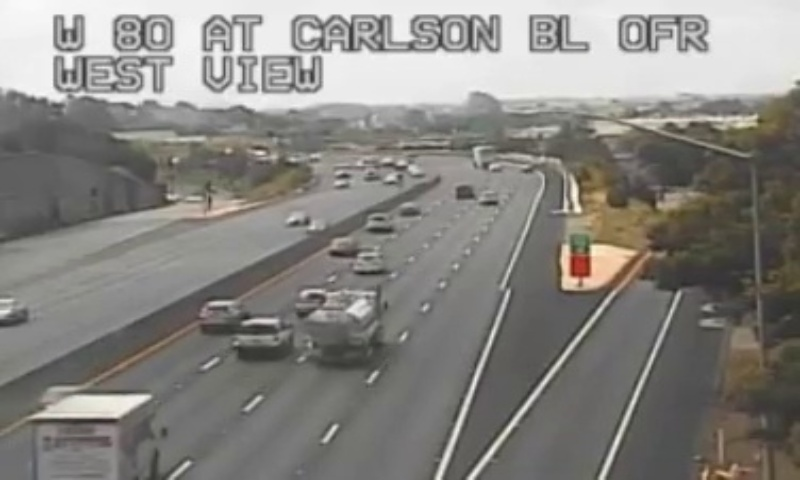car: (234, 317, 291, 351), (197, 299, 244, 326), (295, 288, 327, 315), (351, 252, 385, 274)
small-truck: (34, 391, 159, 480)
tank-truck: (306, 290, 385, 360)
